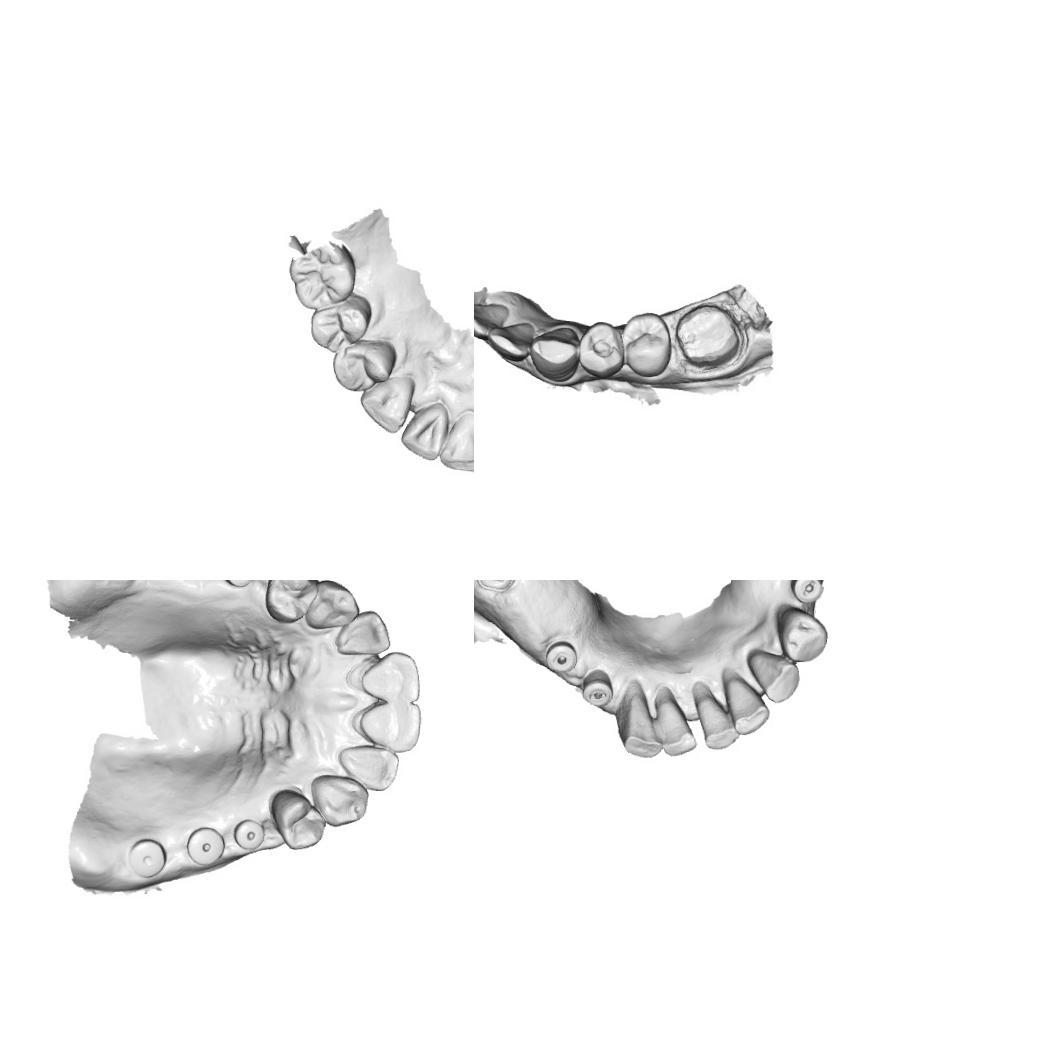canine: (358, 372, 416, 434), (308, 772, 370, 830), (744, 646, 802, 706), (528, 324, 580, 385), (304, 580, 361, 631)
crown: (672, 302, 746, 373)
implant: (126, 837, 168, 879), (184, 824, 226, 866), (542, 637, 581, 674), (232, 817, 266, 851), (220, 580, 256, 588)
implant_minus: (580, 669, 615, 710), (789, 580, 825, 605), (474, 580, 518, 594)
incisor: (356, 700, 422, 754), (358, 648, 421, 704), (720, 674, 772, 738), (399, 400, 450, 462), (336, 744, 400, 792), (618, 692, 662, 760), (652, 696, 698, 757), (693, 694, 742, 751), (334, 609, 392, 657), (437, 410, 474, 473), (486, 318, 536, 362), (474, 299, 509, 341)
molar: (283, 236, 358, 312)
premolar: (308, 293, 372, 355), (330, 338, 398, 392), (269, 788, 327, 851), (620, 310, 673, 378), (772, 604, 830, 666), (576, 319, 626, 382), (264, 580, 315, 623)
